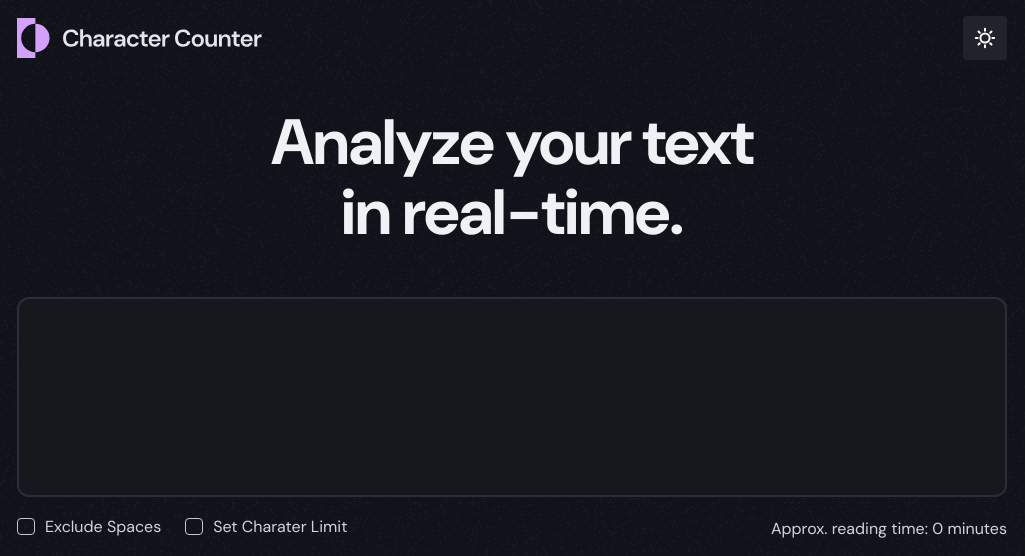
Scenario: Text in textarea › should render the text area with short text. Aprox time at less than 1 minute
Step 1. Type "LoremLorem, ipsum dolor." into the text box with test id "text-area-input" → {"x": 512, "y": 397}, box [17,297,1007,497]
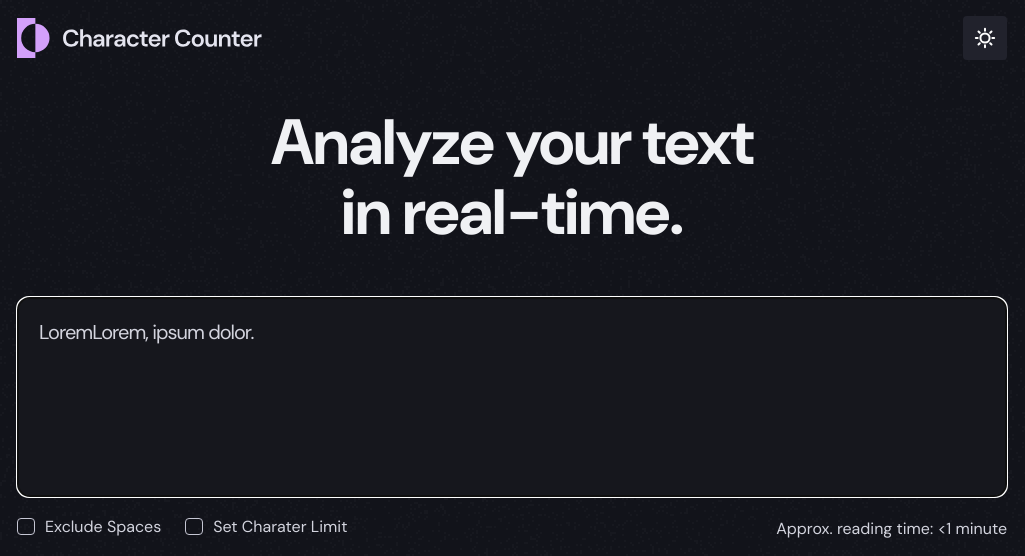
Expected: the text with test id "aprox-time" reads "Approx. reading time: <1 minute", [776,518,1007,539]
